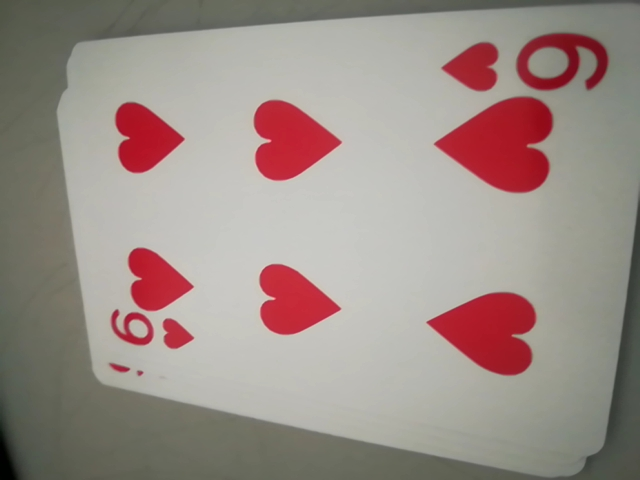hx 6: (438, 22, 612, 103), (104, 306, 194, 367)
